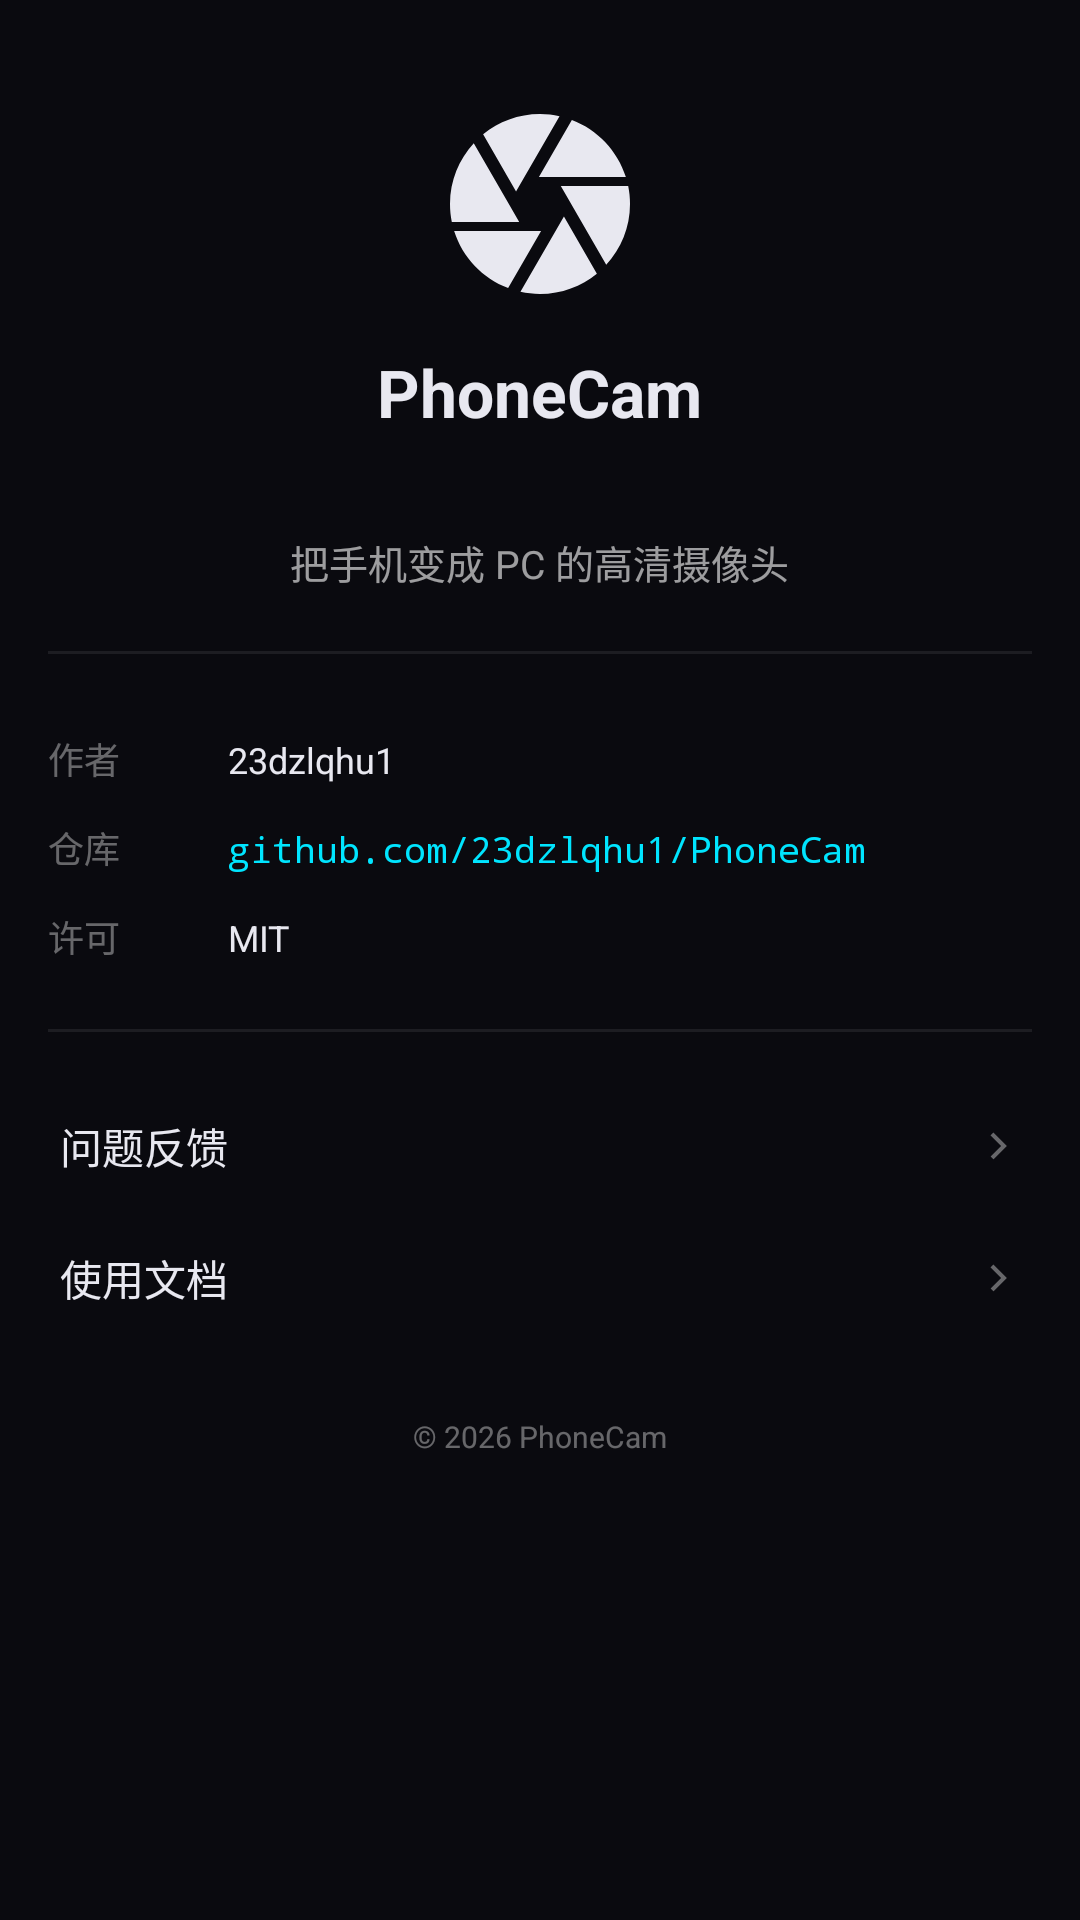

Screen size 1080*1920. Icon name, then its box in pixels as (x1, y1, x2, y2):
chevron right: (991, 1133, 1007, 1159), (991, 1265, 1007, 1291)
